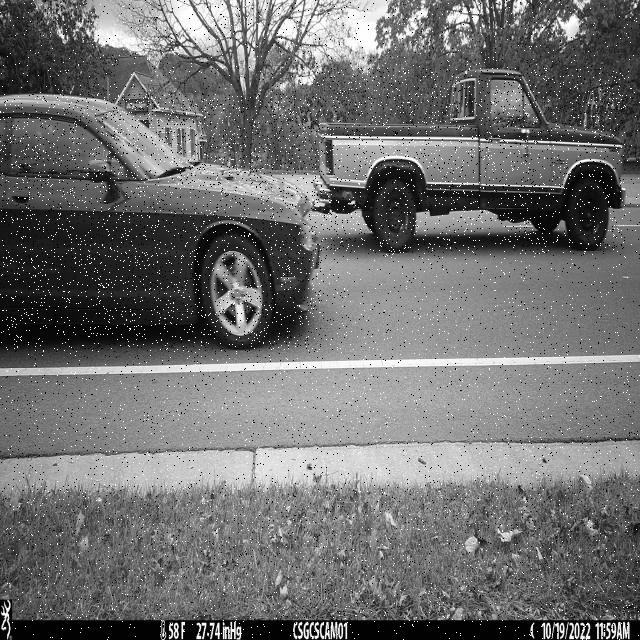Pickup: (310, 68, 625, 254)
Sedan: (0, 94, 322, 352)
